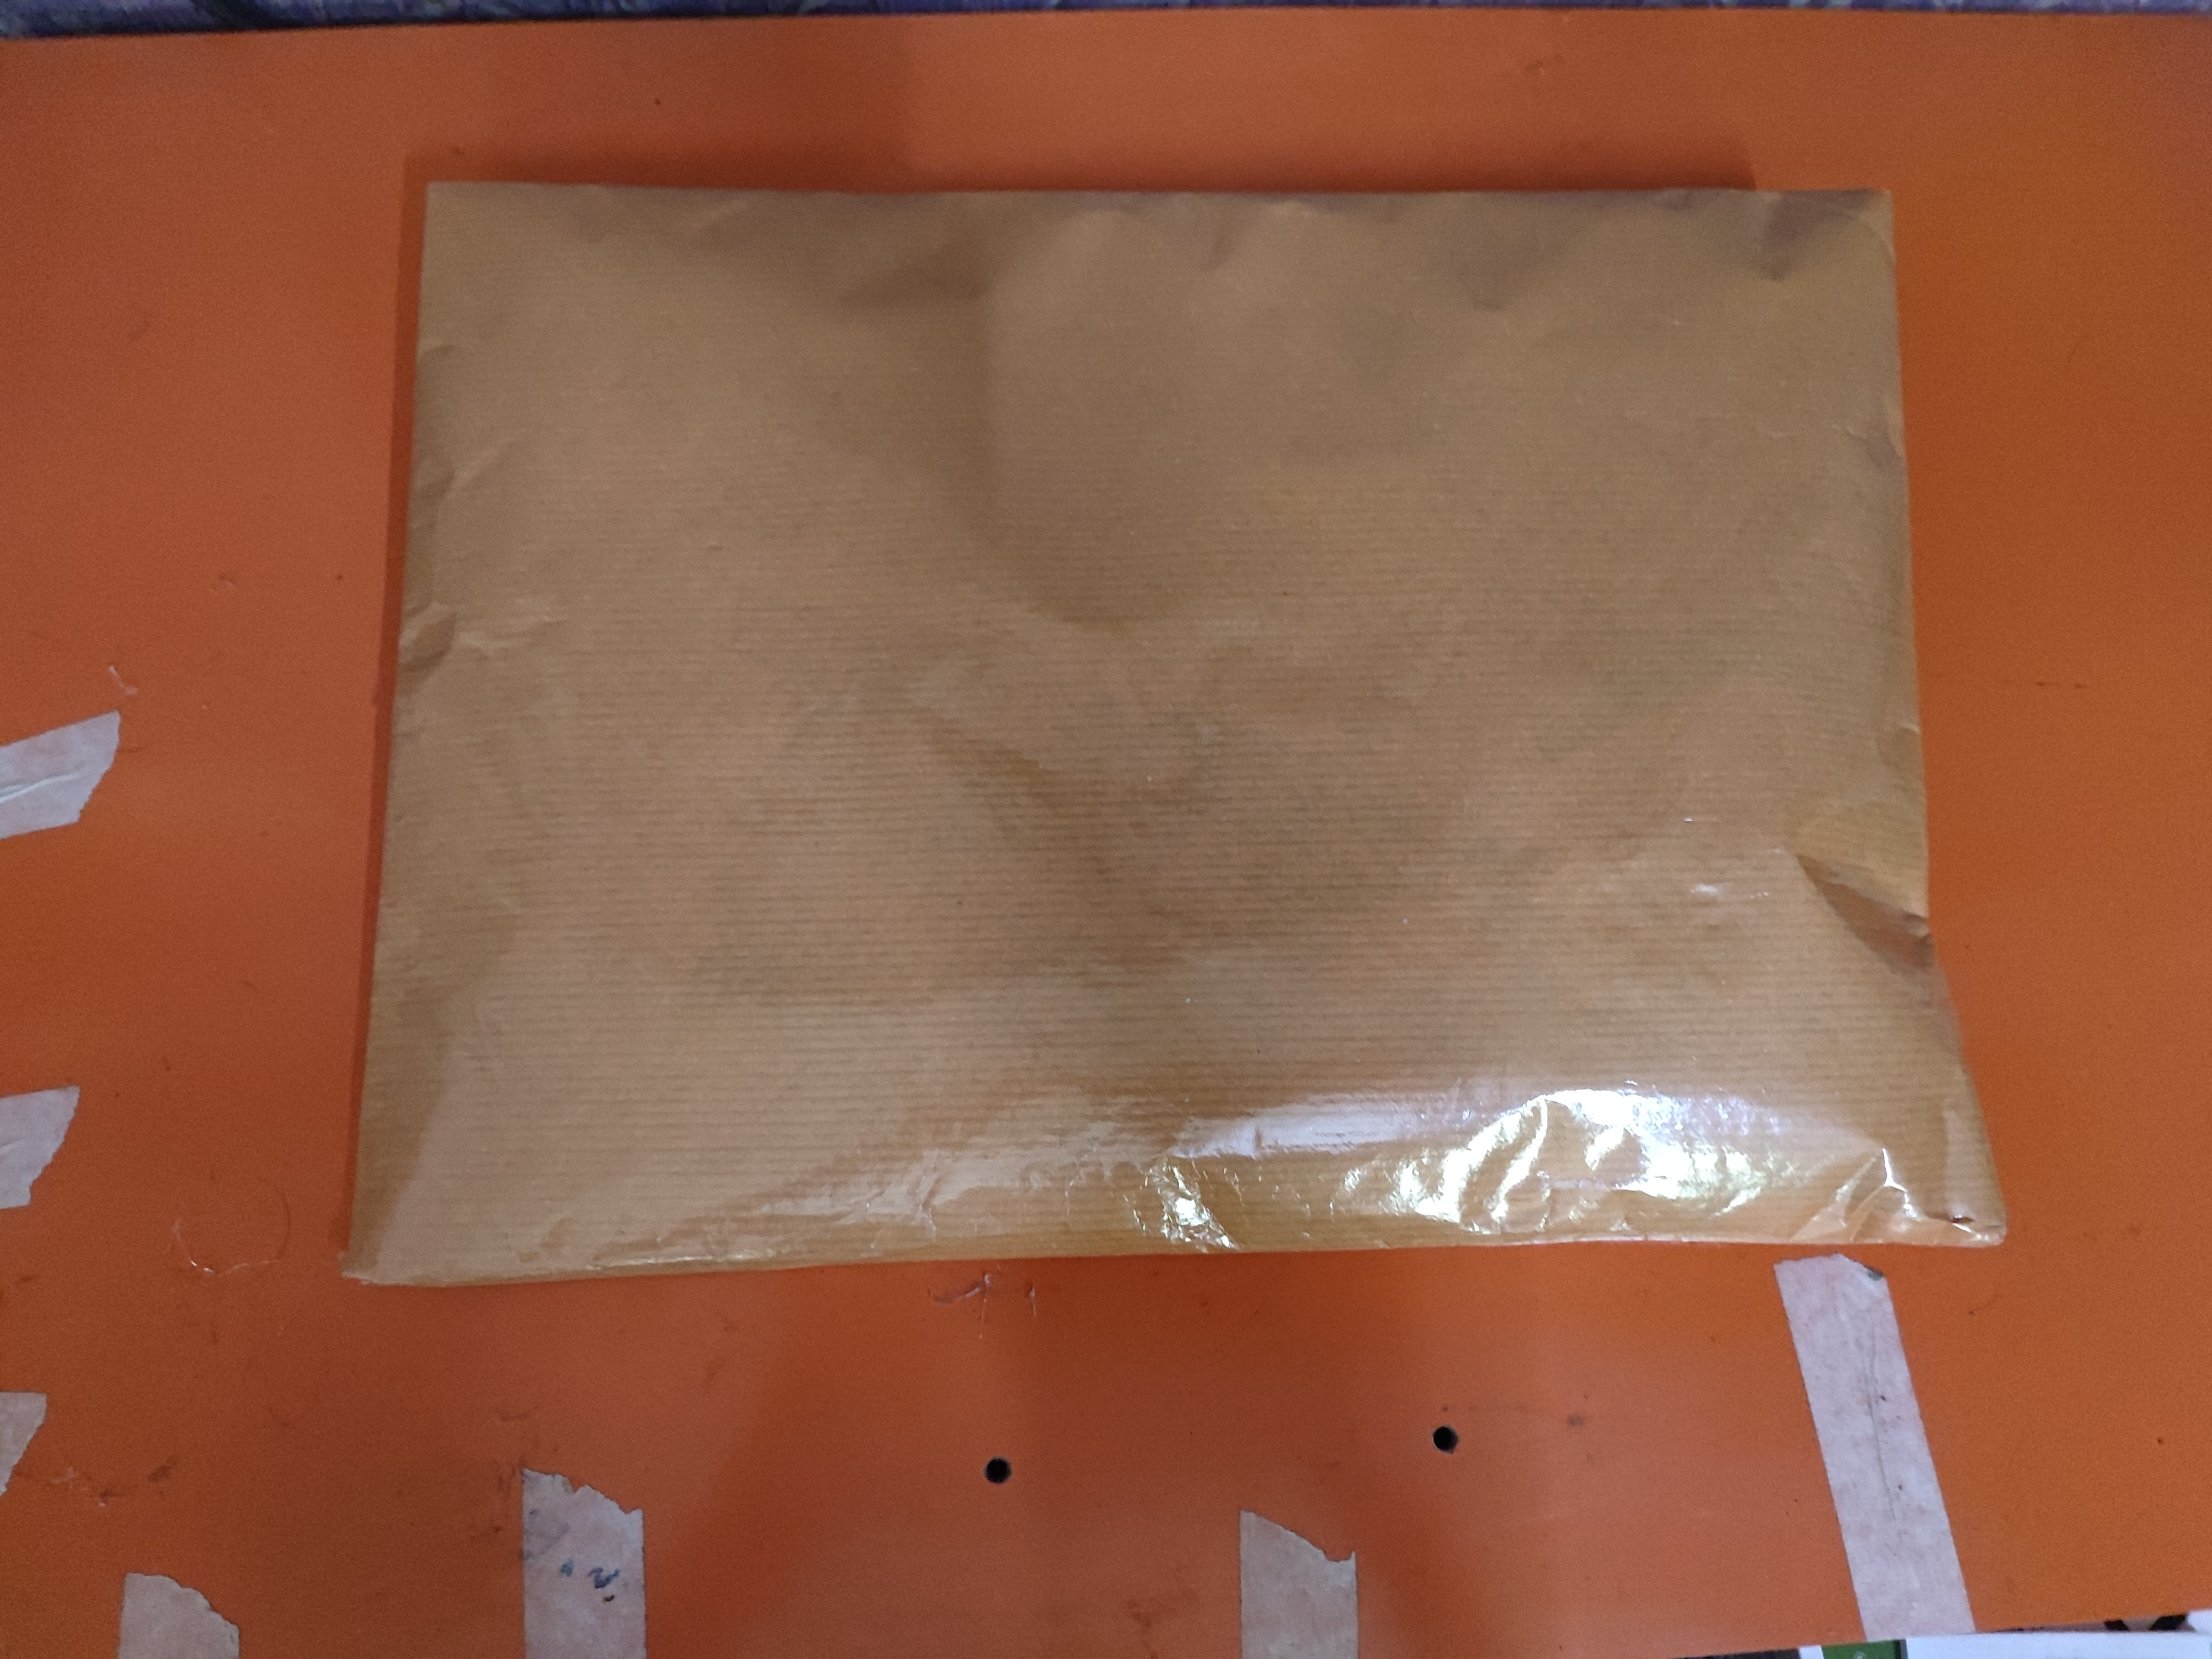Box: (378, 110, 1968, 1352)
